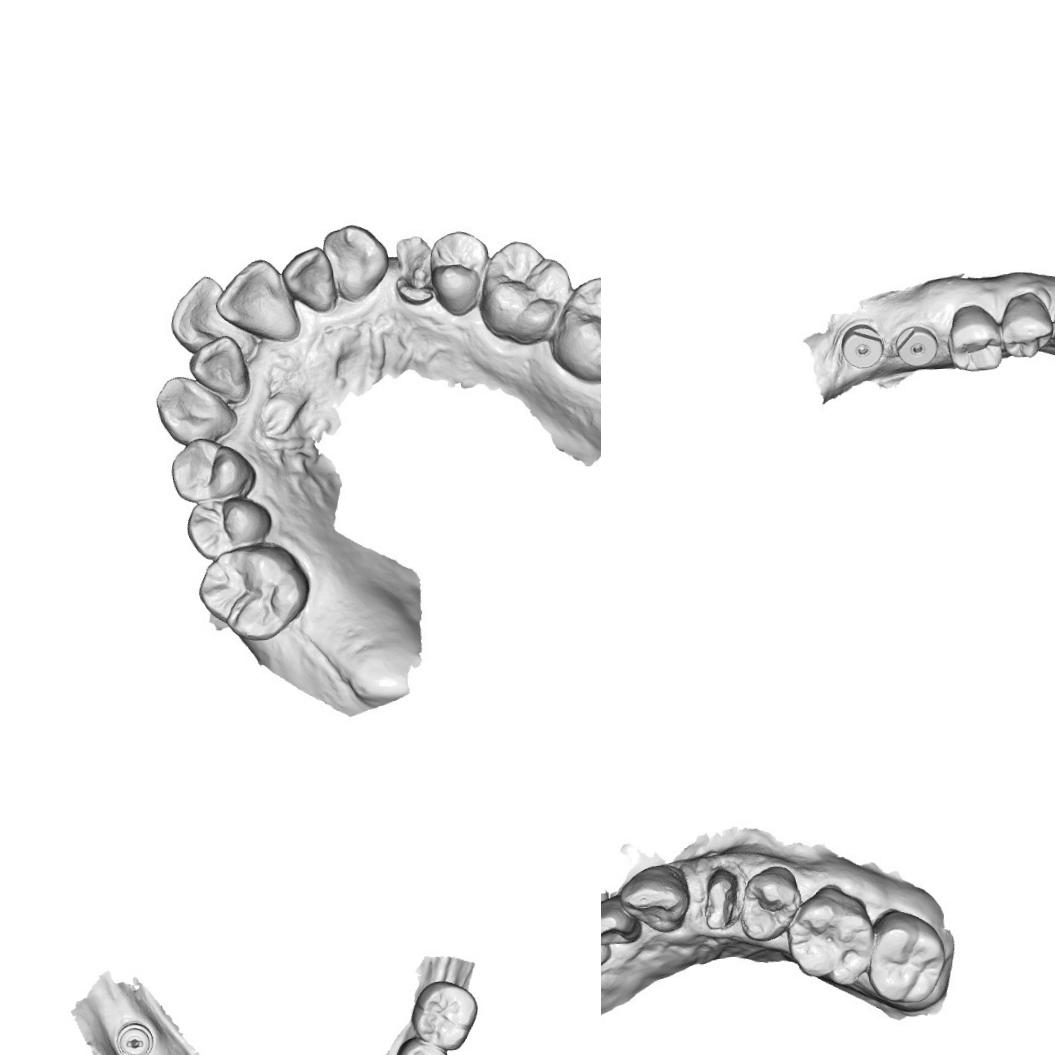canine: (151, 372, 237, 447), (322, 220, 390, 300), (619, 866, 688, 934)
crown: (693, 857, 746, 936)
implant: (836, 318, 885, 372), (890, 321, 941, 370)
implant_minus: (108, 1011, 165, 1055)
incisor: (170, 277, 253, 364), (216, 258, 301, 339), (285, 245, 341, 316), (194, 337, 250, 403), (601, 893, 638, 955)
molar: (194, 541, 310, 644), (475, 232, 570, 345), (785, 880, 881, 984), (866, 904, 946, 1006), (543, 272, 601, 391), (407, 977, 481, 1053)
premolar: (424, 228, 494, 321), (171, 436, 254, 509), (184, 490, 272, 558), (734, 860, 800, 942), (944, 300, 1006, 374), (996, 289, 1055, 362), (389, 1032, 452, 1055)
